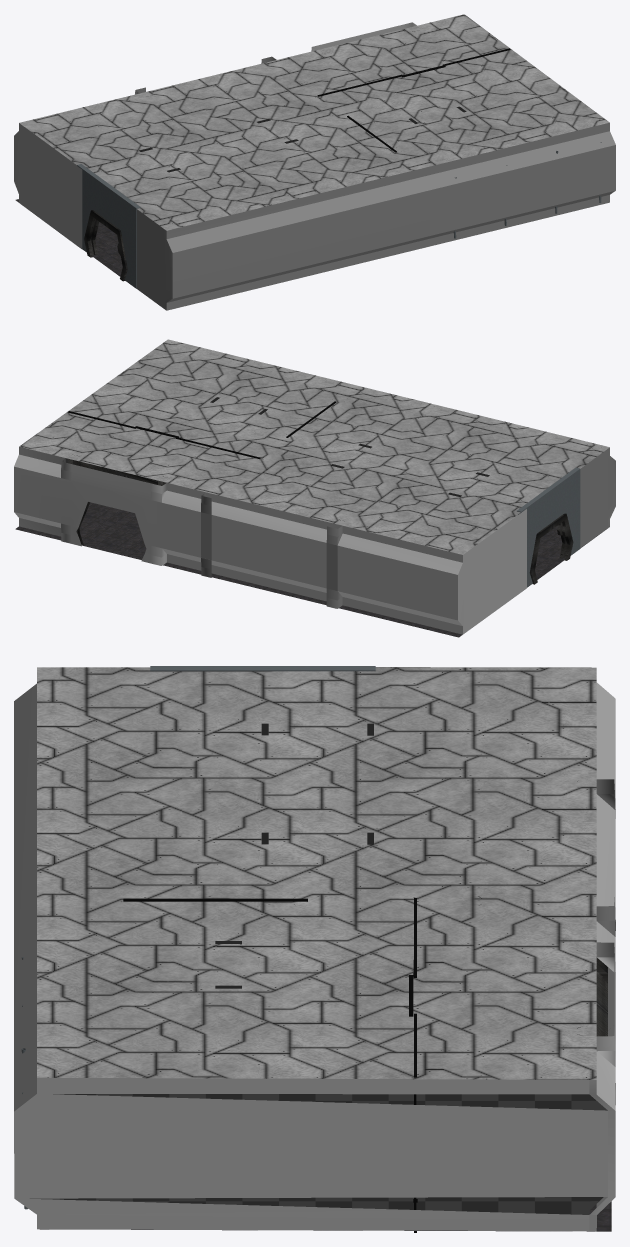
File: comisaria.obj
The picture shows the model from 3 angles, top to bottom: view 1: azimuth 30°, elevation 25°; view 2: azimuth 150°, elevation 25°; view 3: azimuth 270°, elevation 25°; orthographic projection. The views are drawn at different scales.
Parts seen in each view (by area): view 1: polySurface3577; view 2: polySurface3577; view 3: polySurface3577.
Boxes of the visible parts, <box> form: polySurface3577: <box>14,14,615,310</box>; polySurface3577: <box>14,339,615,637</box>; polySurface3577: <box>14,666,615,1232</box>.
Bounding box in the file's own units: 118 × 20.95 × 72.71.
